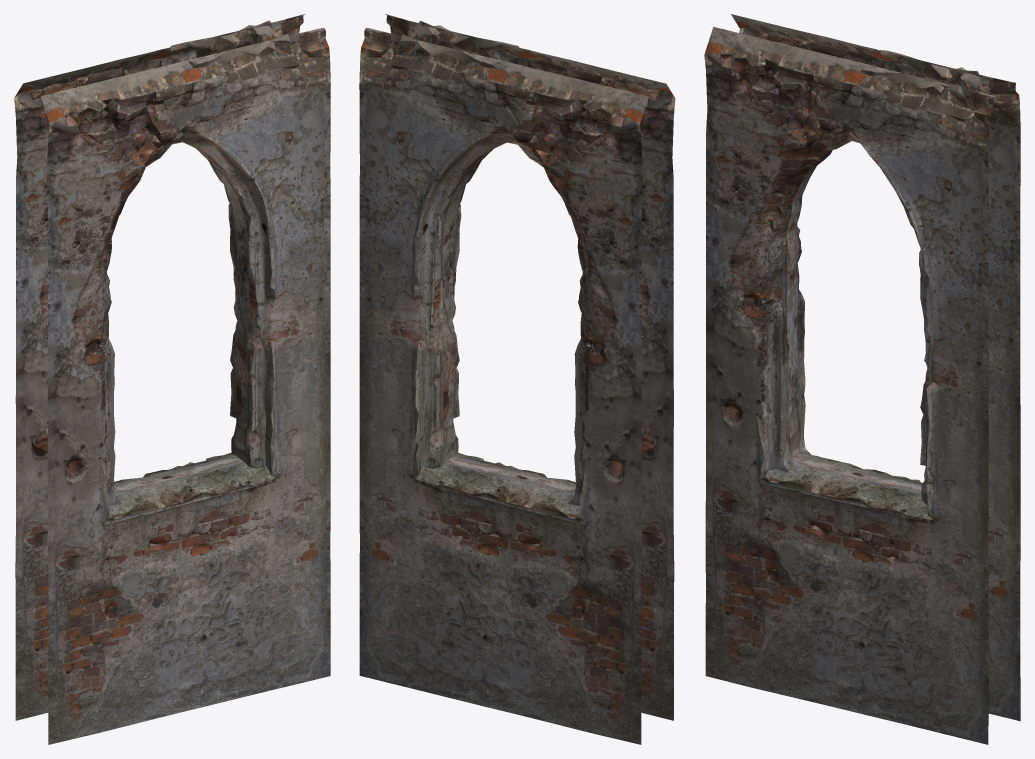
Rendered from SM_ChapelWall_01_02.fbx.
3 renders of one model, left to right at view 1: azimuth 30°, elevation 25°; view 2: azimuth 150°, elevation 25°; view 3: azimuth 330°, elevation 25°, orthographic.
Parts seen in each view (by area): view 1: sm_ChapelWall_01_02_LOD0; view 2: sm_ChapelWall_01_02_LOD0; view 3: sm_ChapelWall_01_02_LOD0.
Part boxes in pixels (<box>): sm_ChapelWall_01_02_LOD0: <box>14,14,330,744</box>; sm_ChapelWall_01_02_LOD0: <box>359,14,675,744</box>; sm_ChapelWall_01_02_LOD0: <box>704,14,1020,744</box>.
Bounding box in the file's own units: 60.14 × 250 × 546.
